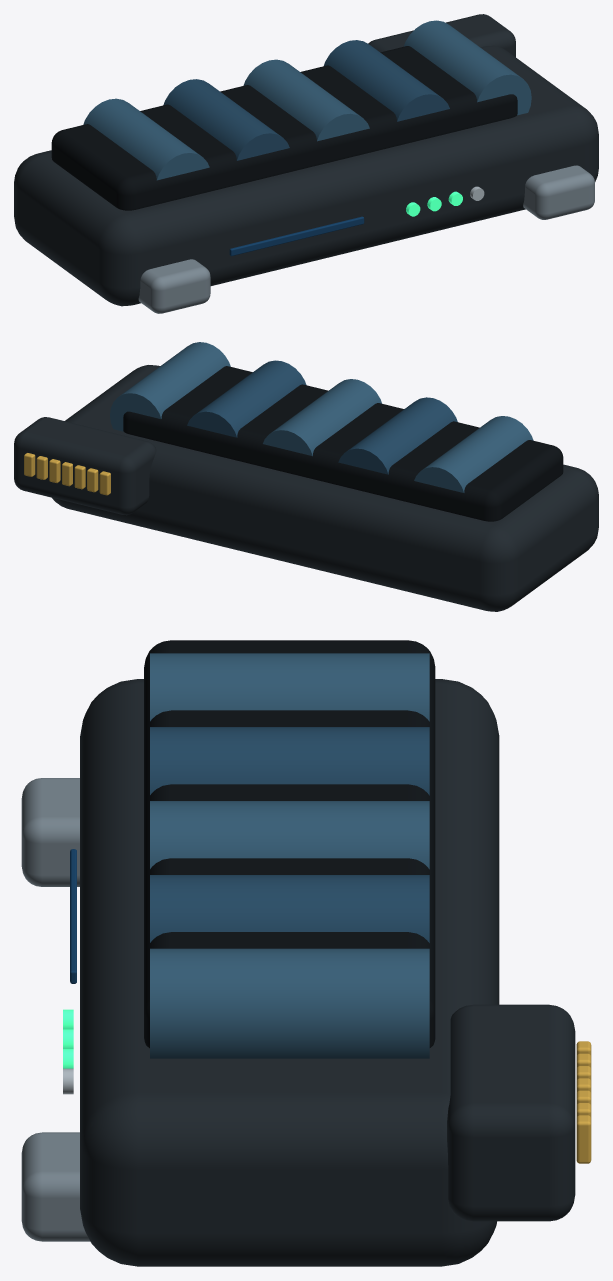
The model's file is laptop-battery.glb.
The picture shows the model from 3 angles, top to bottom: view 1: azimuth 30°, elevation 25°; view 2: azimuth 150°, elevation 25°; view 3: azimuth 270°, elevation 25°; orthographic projection. The views are drawn at different scales.
Visible parts, largest first — view 1: Battery enclosure, Battery cell contour (×5), Cell housing, Release latch (×2), Connector block, Premium removable laptop battery; view 2: Battery enclosure, Battery cell contour (×5), Cell housing, Connector block; view 3: Battery enclosure, Battery cell contour (×5), Cell housing, Connector block, Release latch (×2), Premium removable laptop battery.
Part boxes in pixels (<box>): Battery enclosure: <box>14,45,598,306</box>; Battery cell contour (×5): <box>83,20,531,180</box>; Cell housing: <box>51,46,517,210</box>; Release latch (×2): <box>138,165,594,313</box>; Connector block: <box>368,14,515,57</box>; Premium removable laptop battery: <box>229,216,364,256</box>; Battery enclosure: <box>52,365,598,611</box>; Battery cell contour (×5): <box>110,342,533,492</box>; Cell housing: <box>123,366,563,521</box>; Connector block: <box>14,417,156,515</box>; Battery enclosure: <box>80,679,499,1266</box>; Battery cell contour (×5): <box>150,653,429,1058</box>; Cell housing: <box>144,640,435,1048</box>; Connector block: <box>447,1004,575,1221</box>; Release latch (×2): <box>21,778,90,1241</box>; Premium removable laptop battery: <box>70,849,76,983</box>.
Size of the model in its own units: 1.89 by 0.475 by 0.9775.
